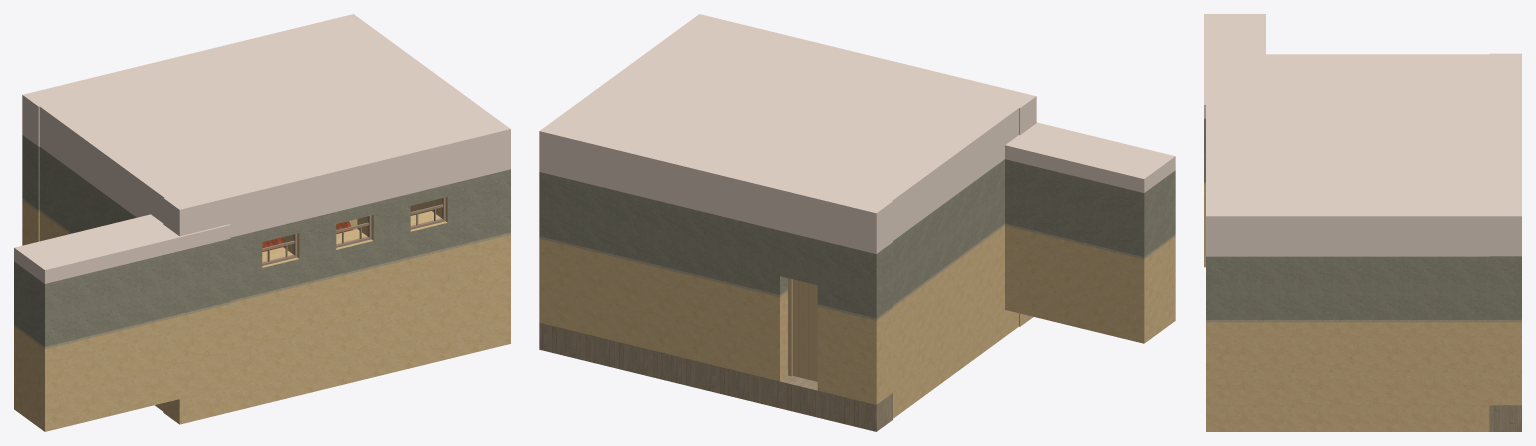
The model's file is pantry_32.dae.
3 renders of one model, left to right at view 1: azimuth 30°, elevation 25°; view 2: azimuth 150°, elevation 25°; view 3: azimuth 270°, elevation 25°, orthographic.
Visible parts, largest first — view 1: Detail0; view 2: Detail0; view 3: Detail0.
Part boxes in pixels (x1,y1,x2,y2): Detail0: (14,14,510,431); Detail0: (539,14,1175,431); Detail0: (1204,14,1521,431).
Size of what is drawn, in the model's own units: 227 by 133 by 99.62.
